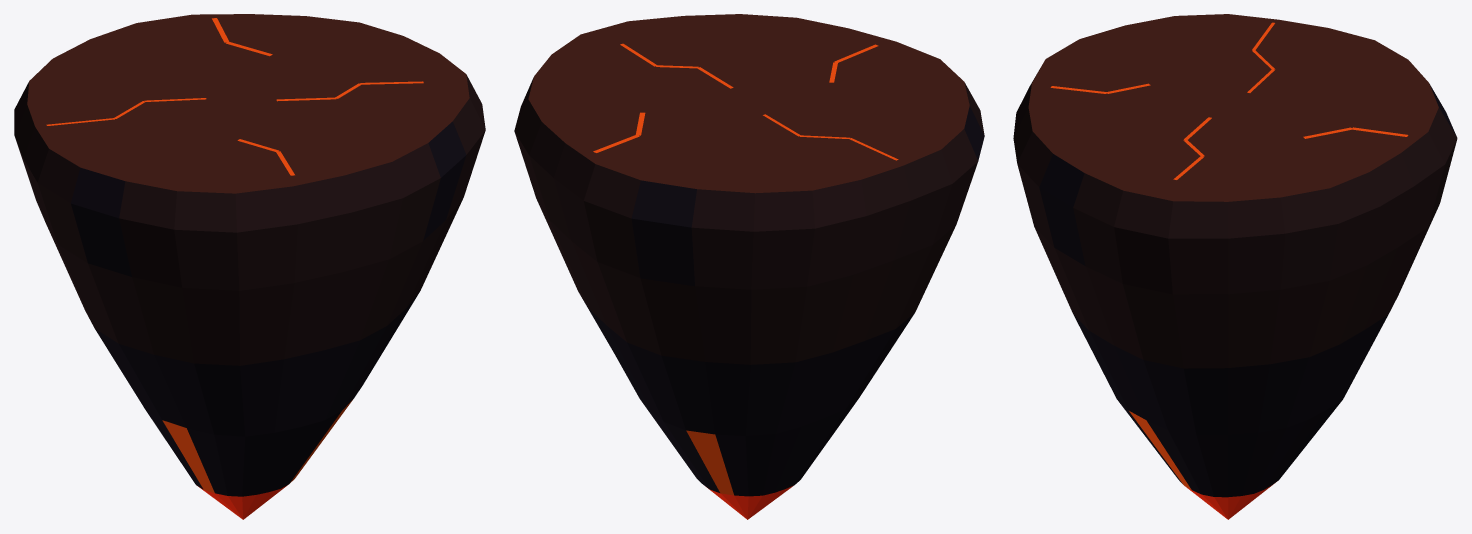
Rendered from volcanic_island.obj.
3 views of the same model, side by side, from view 1: azimuth 30°, elevation 25°; view 2: azimuth 150°, elevation 25°; view 3: azimuth 270°, elevation 25° (orthographic).
Parts seen in each view (by area): view 1: volcanic_island; view 2: volcanic_island; view 3: volcanic_island.
Part boxes in pixels (x1,y1,x2,y2): volcanic_island: (14,14,485,519); volcanic_island: (514,14,984,519); volcanic_island: (1013,14,1457,519).
Bounding box in the file's own units: 18.64 × 18.07 × 17.56.
